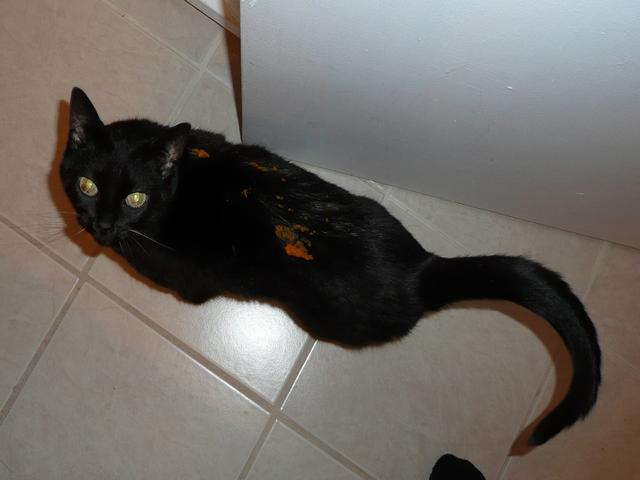cat: (16, 51, 538, 386)
